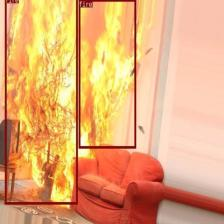fire: (4, 0, 78, 204), (78, 0, 136, 148)
